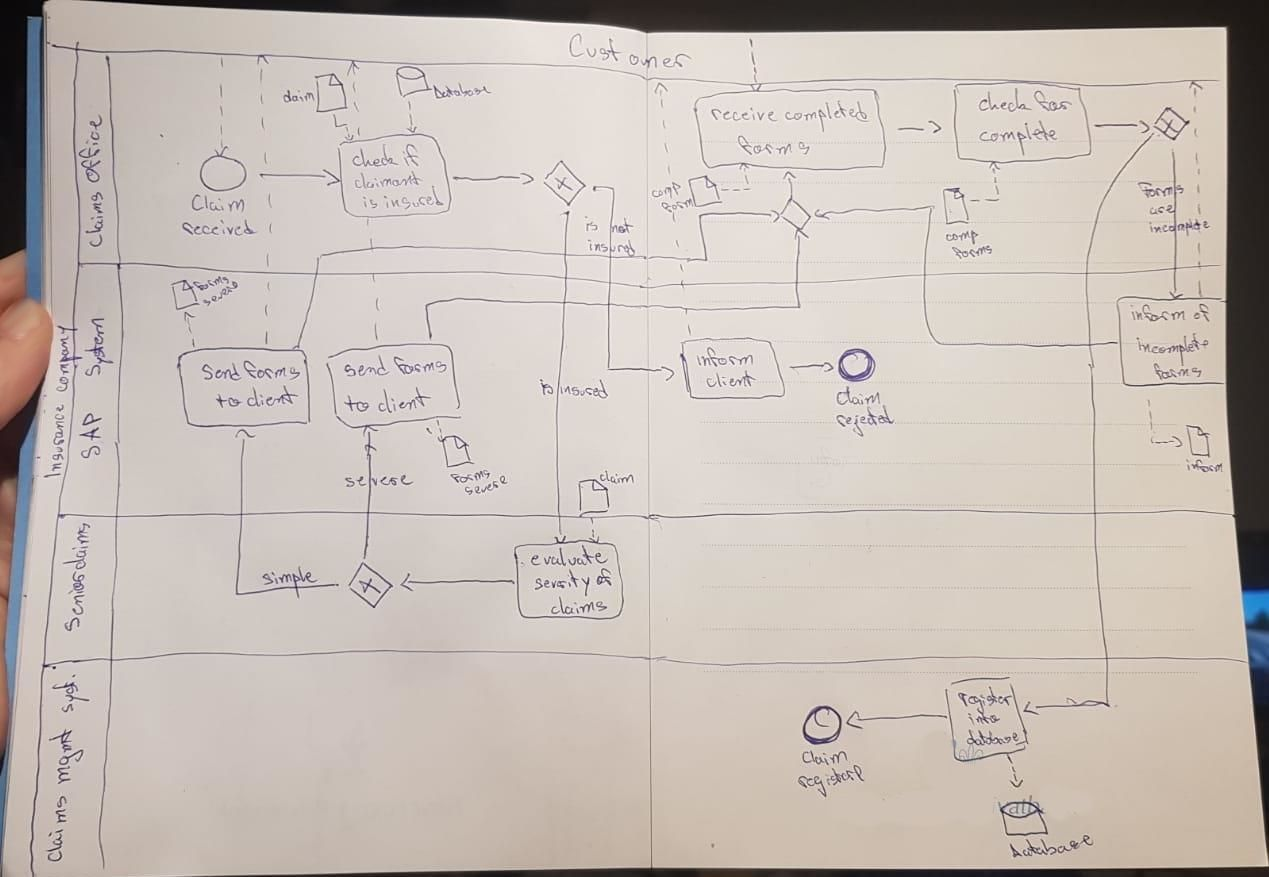Claim: (191, 194, 248, 215), (799, 747, 847, 767)
Claims: (81, 185, 107, 248)
Customer: (566, 32, 694, 73)
Database: (431, 79, 494, 102)
Forms: (1138, 179, 1189, 200)
Inform: (694, 349, 755, 371)
Insurance: (43, 397, 69, 481)
Officer: (78, 115, 105, 182)
SAP: (76, 409, 104, 459)
Send: (343, 358, 391, 381), (200, 362, 241, 384)
Senior: (59, 575, 92, 632)
Severity: (532, 571, 590, 593)
System: (80, 315, 109, 378)
are: (1149, 203, 1176, 216)
check: (974, 91, 1032, 117), (349, 146, 393, 172)
claim: (835, 388, 883, 409), (597, 471, 635, 488), (282, 87, 317, 104)
claimant: (350, 170, 424, 194)
claims: (42, 792, 73, 866), (65, 521, 93, 571), (547, 595, 610, 617)
client: (373, 387, 432, 416), (248, 387, 299, 411), (706, 373, 756, 390)
comp: (648, 176, 681, 200), (945, 230, 978, 244)
company: (50, 322, 79, 395)
complete: (976, 121, 1060, 147)
completed: (780, 100, 869, 126)
database: (1010, 832, 1095, 861), (966, 729, 1024, 747)
evaluate: (529, 550, 607, 570)
for: (1036, 90, 1072, 115)
form: (661, 194, 695, 217)
forms: (740, 137, 812, 157), (393, 355, 448, 378), (244, 361, 301, 383), (450, 464, 491, 486), (199, 267, 230, 296), (1152, 363, 1204, 380), (953, 245, 994, 261)
if: (395, 144, 421, 170)
incomplete: (1131, 333, 1210, 358), (1148, 216, 1211, 236)
inform: (1128, 304, 1188, 326), (1183, 459, 1224, 475)
insured: (379, 188, 444, 212), (553, 380, 609, 400), (584, 240, 634, 256)
into: (966, 711, 1005, 726)
is: (580, 213, 600, 232), (535, 379, 551, 399), (361, 194, 377, 213)
mgmt: (48, 721, 78, 780)
not: (607, 217, 637, 236)
of: (592, 569, 613, 591), (1190, 304, 1211, 325)
receive: (709, 105, 778, 126)
received: (183, 220, 261, 239)
register: (957, 687, 1016, 710)
registered: (788, 760, 869, 796)
rejected: (834, 407, 891, 433)
severe: (345, 473, 415, 491), (464, 474, 511, 500), (205, 281, 241, 313)
simple: (262, 567, 319, 590)
syst.: (51, 677, 87, 718)
to: (342, 393, 371, 416), (213, 390, 241, 412)
